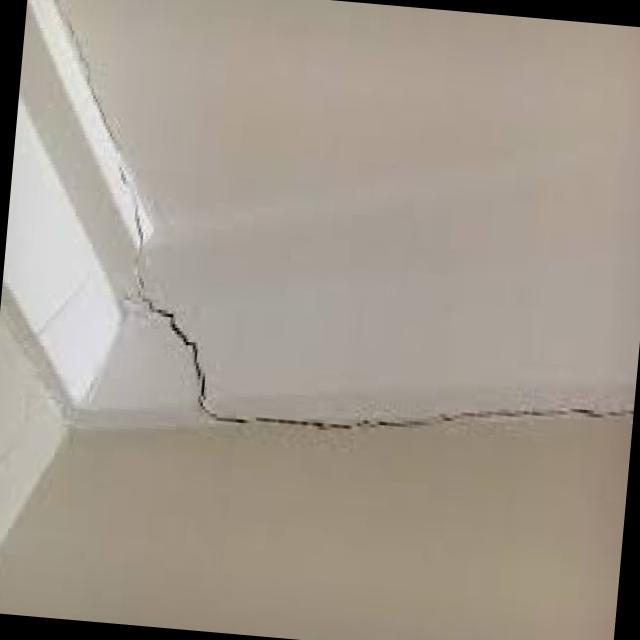crack: (115, 177, 640, 459)
